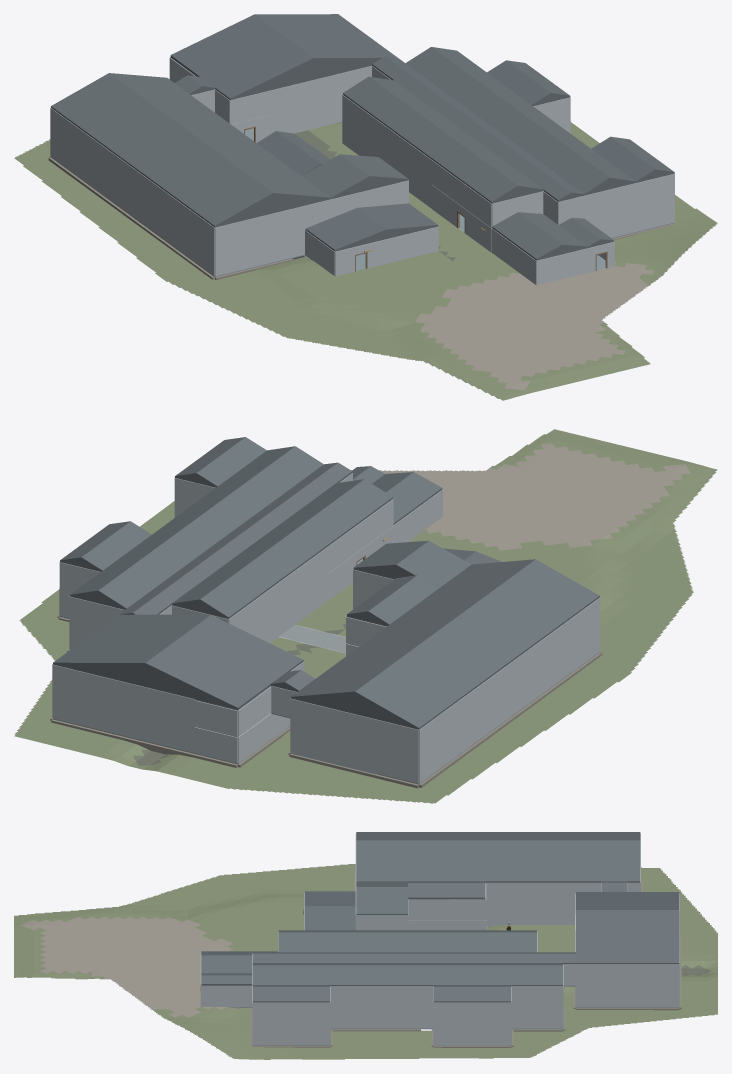
Rendered from college-electrical.glb.
3 views of the same model, one above another, from view 1: azimuth 30°, elevation 25°; view 2: azimuth 150°, elevation 25°; view 3: azimuth 270°, elevation 25° (orthographic). The views are drawn at different scales.
Visible parts, largest first — view 1: College saved campus earthworks, teaching-and-lecture roof west, east-residence-and-service roof west, teaching-and-lecture roof east, library roof west, west-residence roof west, Wall lecture S, library roof east, Wall lecture W, east-residence-and-service roof east, residence-spine roof west, west-residence roof east (+40 smaller); view 2: College saved campus earthworks, teaching-and-lecture roof west, east-residence-and-service roof west, teaching-and-lecture roof east, library roof west, west-residence roof west, library roof east, Wall lecture W, east-residence-and-service roof east, residence-spine roof west, west-residence roof east, Wall project N (+45 smaller); view 3: College saved campus earthworks, teaching-and-lecture roof east, east-residence-and-service roof east, library roof east, west-residence roof east, teaching-and-lecture roof west, residence-spine roof east, COLLEGE retained outside wall 7, COLLEGE retained outside wall 4, library roof west, Wall upper-reading E, Wall upper-north-stair E (+29 smaller).
Boxes of the visible parts, x1,y1,x2,y2 form: College saved campus earthworks: [14, 122, 717, 400]; teaching-and-lecture roof west: [51, 73, 272, 227]; east-residence-and-service roof west: [405, 47, 609, 194]; teaching-and-lecture roof east: [109, 73, 330, 199]; library roof west: [170, 14, 313, 99]; west-residence roof west: [343, 76, 517, 203]; Wall lecture S: [215, 205, 305, 276]; library roof east: [255, 14, 397, 59]; Wall lecture W: [140, 173, 214, 276]; east-residence-and-service roof east: [432, 47, 635, 182]; residence-spine roof west: [424, 94, 571, 201]; west-residence roof east: [369, 76, 543, 190]; College saved campus earthworks: [14, 429, 717, 803]; teaching-and-lecture roof west: [355, 559, 599, 729]; east-residence-and-service roof west: [98, 446, 323, 608]; teaching-and-lecture roof east: [291, 559, 535, 698]; library roof west: [145, 615, 303, 709]; west-residence roof west: [200, 479, 392, 618]; library roof east: [53, 614, 210, 664]; Wall lecture W: [518, 597, 600, 710]; east-residence-and-service roof east: [70, 446, 294, 596]; residence-spine roof west: [190, 462, 352, 579]; west-residence roof east: [171, 479, 363, 604]; Wall project N: [319, 705, 418, 756]; College saved campus earthworks: [14, 864, 717, 1059]; teaching-and-lecture roof east: [356, 840, 640, 882]; east-residence-and-service roof east: [253, 965, 562, 986]; library roof east: [576, 910, 679, 964]; west-residence roof east: [278, 932, 536, 952]; teaching-and-lecture roof west: [356, 832, 640, 840]; residence-spine roof east: [253, 953, 485, 962]; COLLEGE retained outside wall 7: [485, 882, 601, 903]; COLLEGE retained outside wall 4: [486, 904, 575, 924]; library roof west: [576, 892, 679, 909]; Wall upper-reading E: [601, 964, 679, 985]; Wall upper-north-stair E: [433, 1002, 511, 1023].
Size of the model in its own units: 73 by 13.86 by 109.
Materials: 61 (40 with a texture image).
